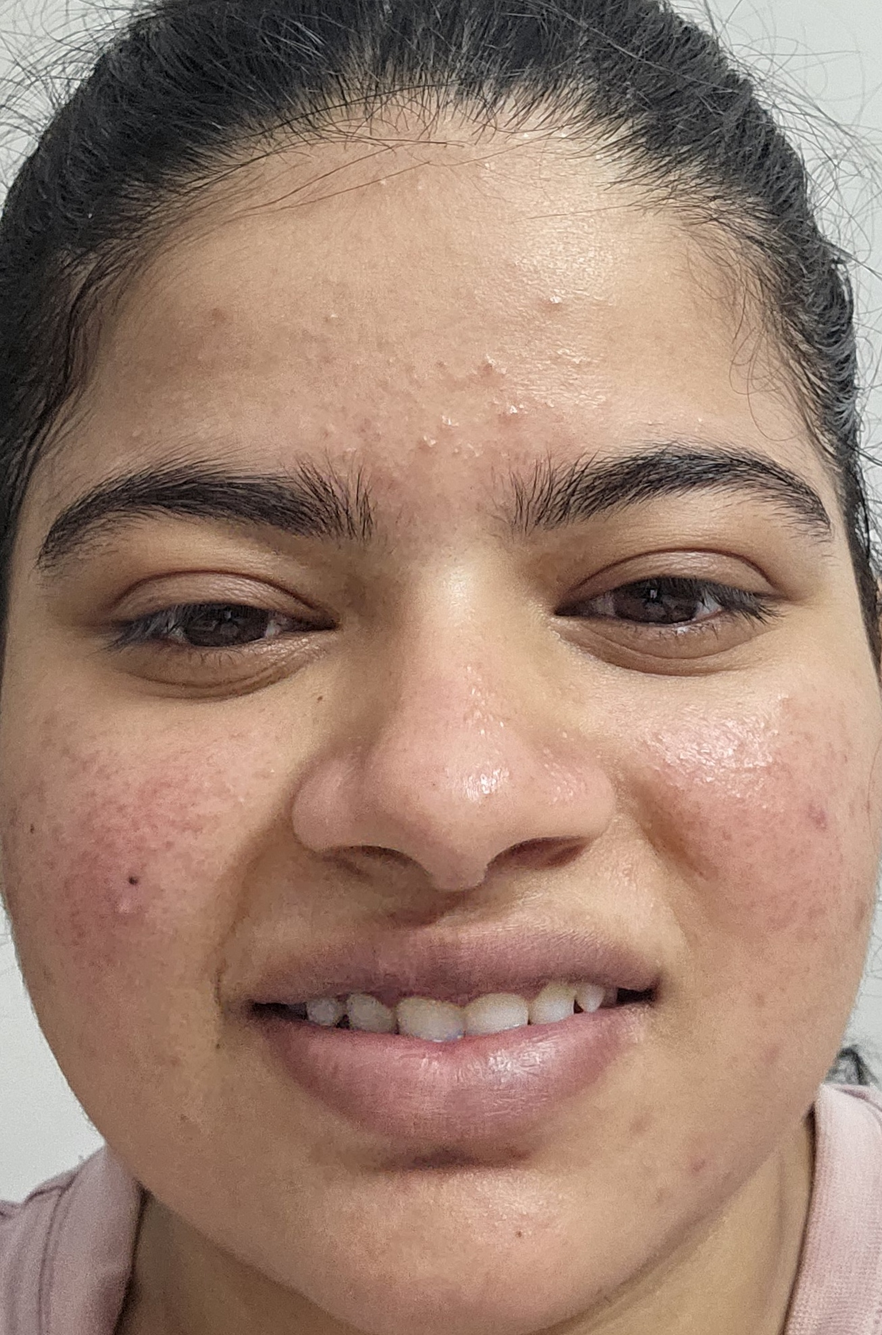closed_comedone: (407, 415, 466, 466), (484, 389, 537, 444), (667, 1140, 722, 1186), (541, 278, 588, 320), (462, 347, 515, 382)
papule: (799, 778, 854, 849)
pustule: (88, 871, 143, 937)
